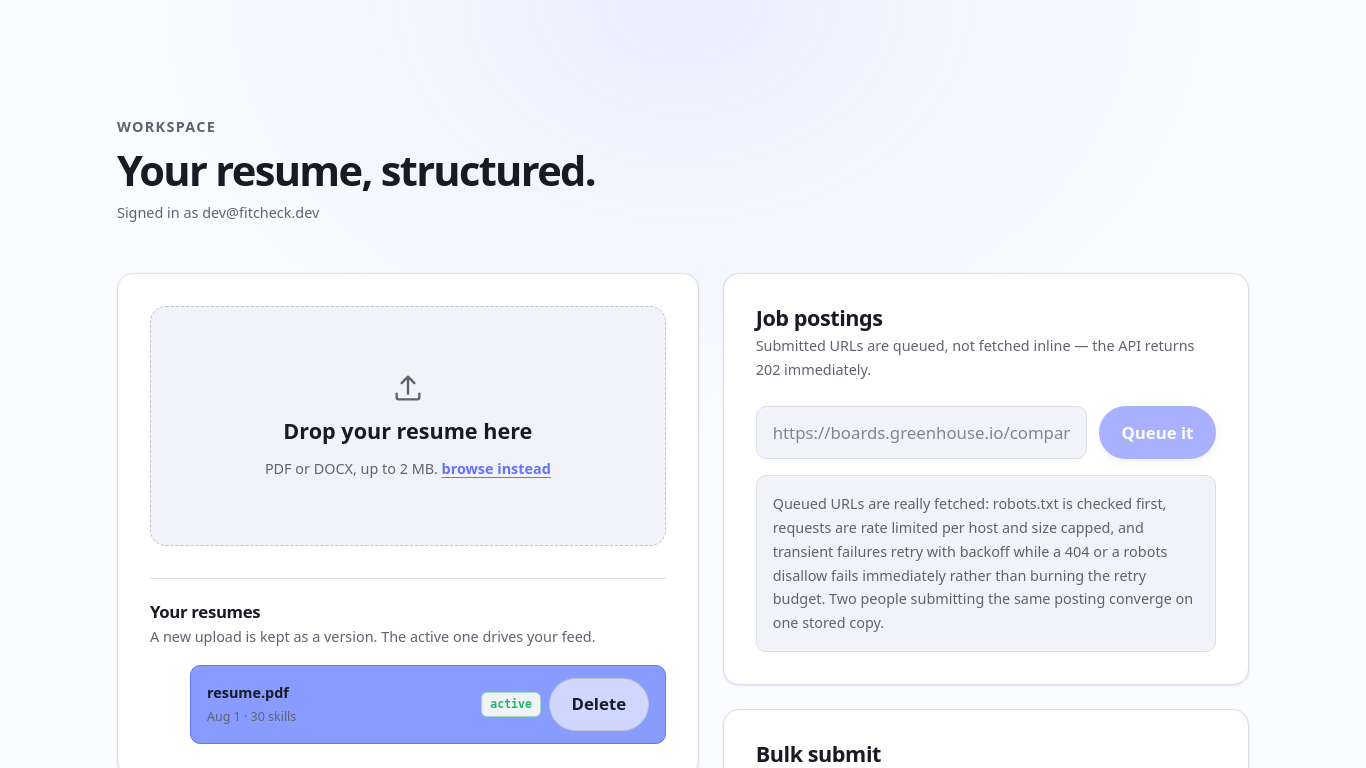
Test: resume versions › does not delete on the first click
This screenshot has width=1366, height=768.
Click the button "Delete": click(599, 704) [549, 678, 649, 730]
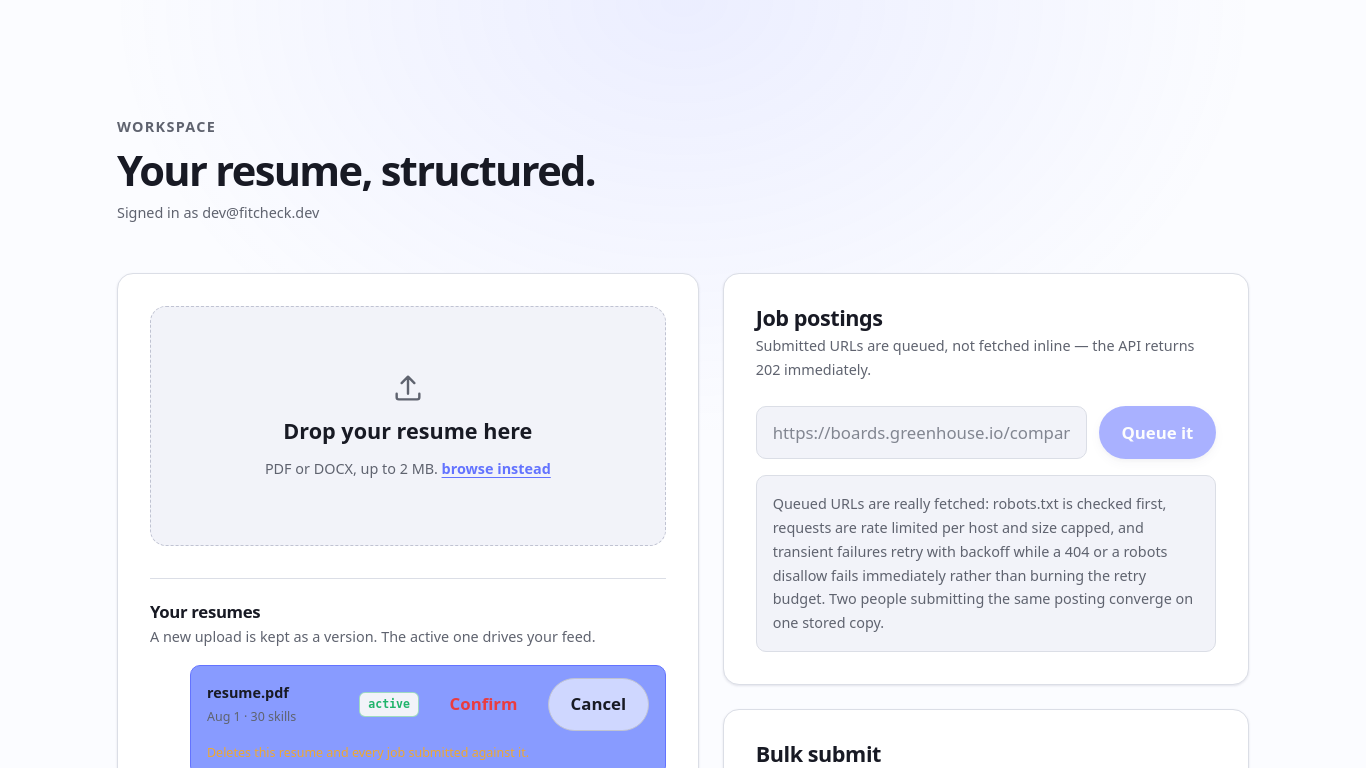
Expected: the text "Deletes this resume and every job submitted against it." is shown, [207, 744, 529, 761]
